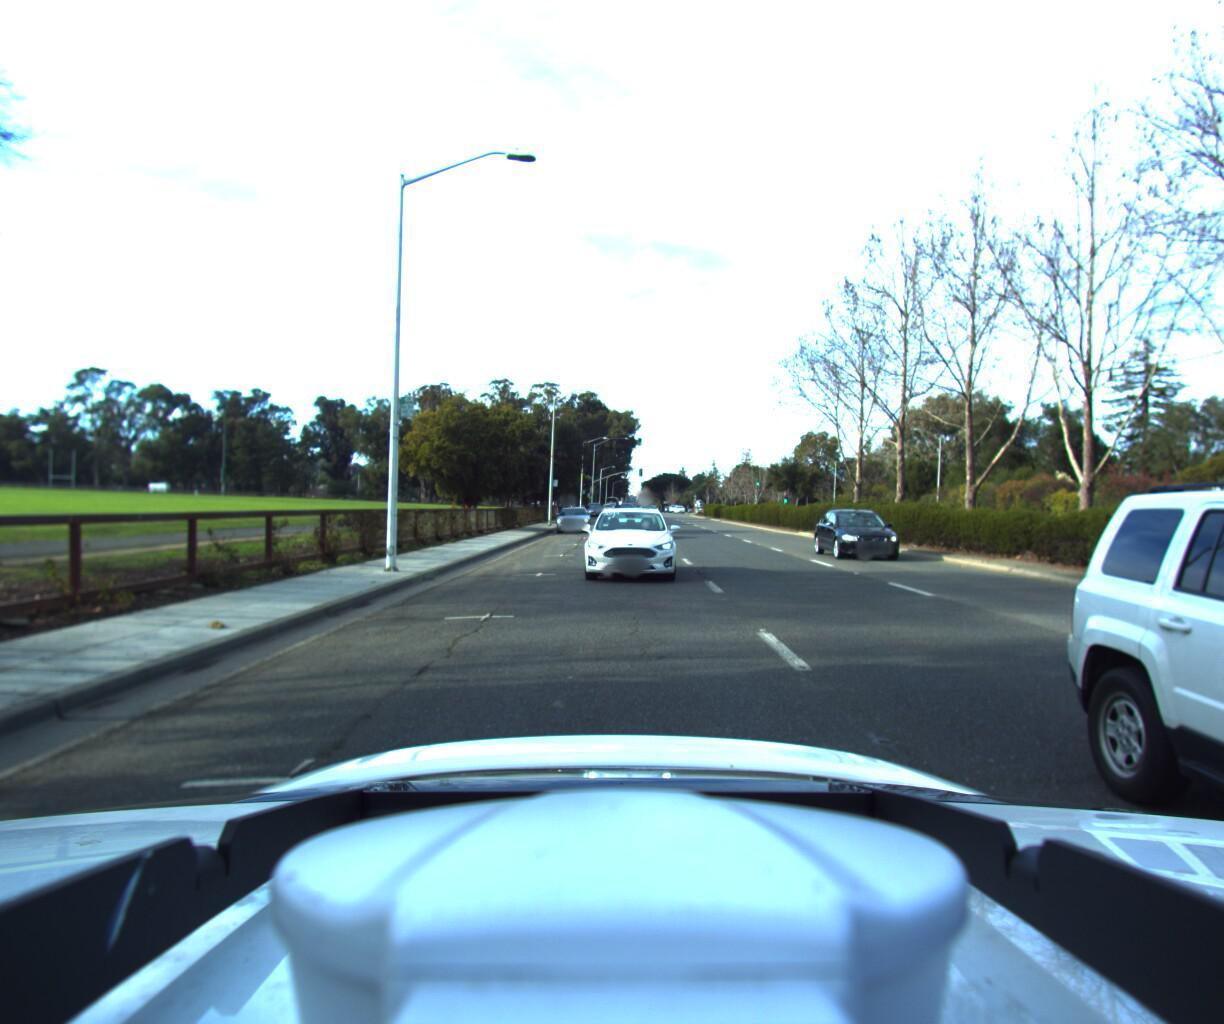car: (576, 501, 677, 585), (819, 506, 922, 565), (608, 499, 650, 539), (554, 506, 591, 534), (584, 504, 603, 519)
